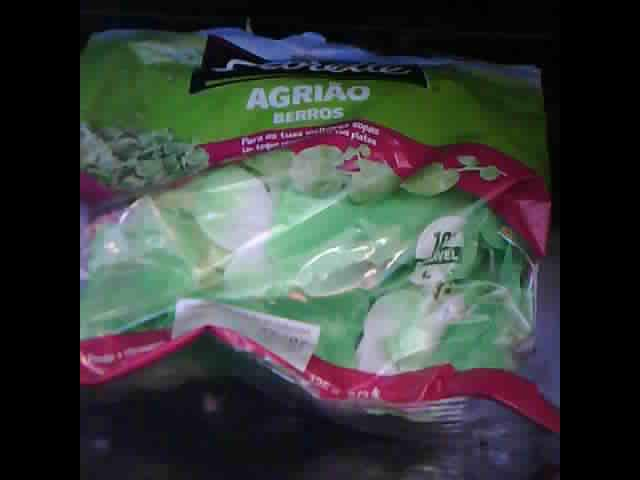florette: (81, 22, 557, 449)
